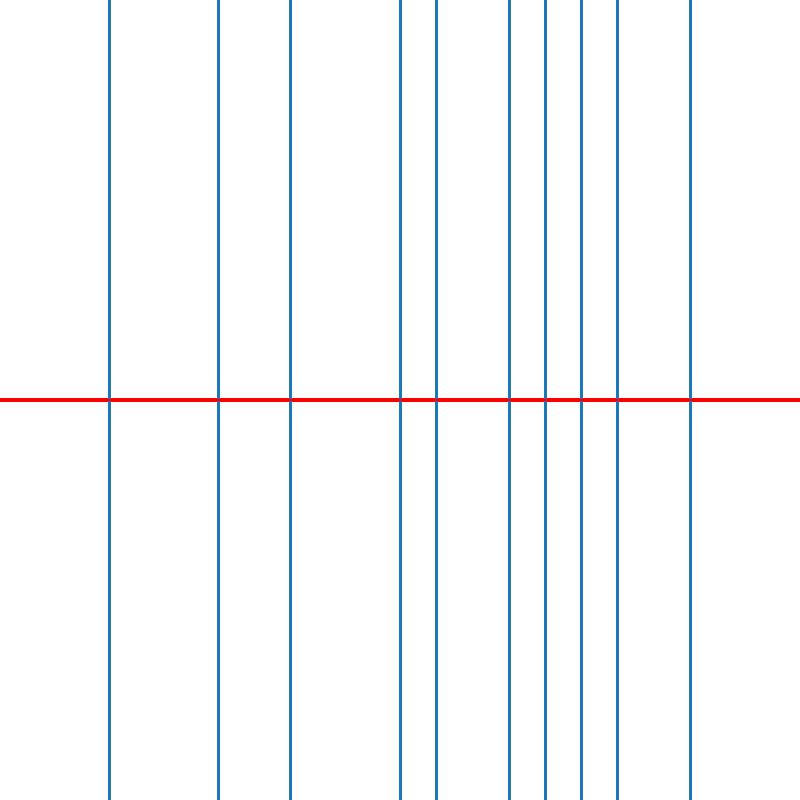root: (541, 396, 549, 404), (432, 396, 440, 404), (687, 396, 694, 404), (505, 396, 512, 404), (578, 396, 585, 404), (396, 396, 403, 404), (214, 396, 221, 404), (105, 396, 112, 404), (287, 396, 294, 404), (614, 396, 621, 404)
